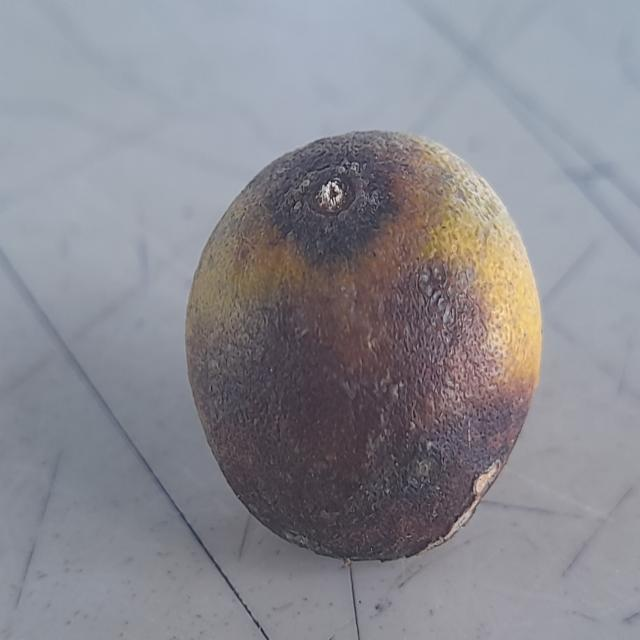black spot: (188, 114, 545, 564)
